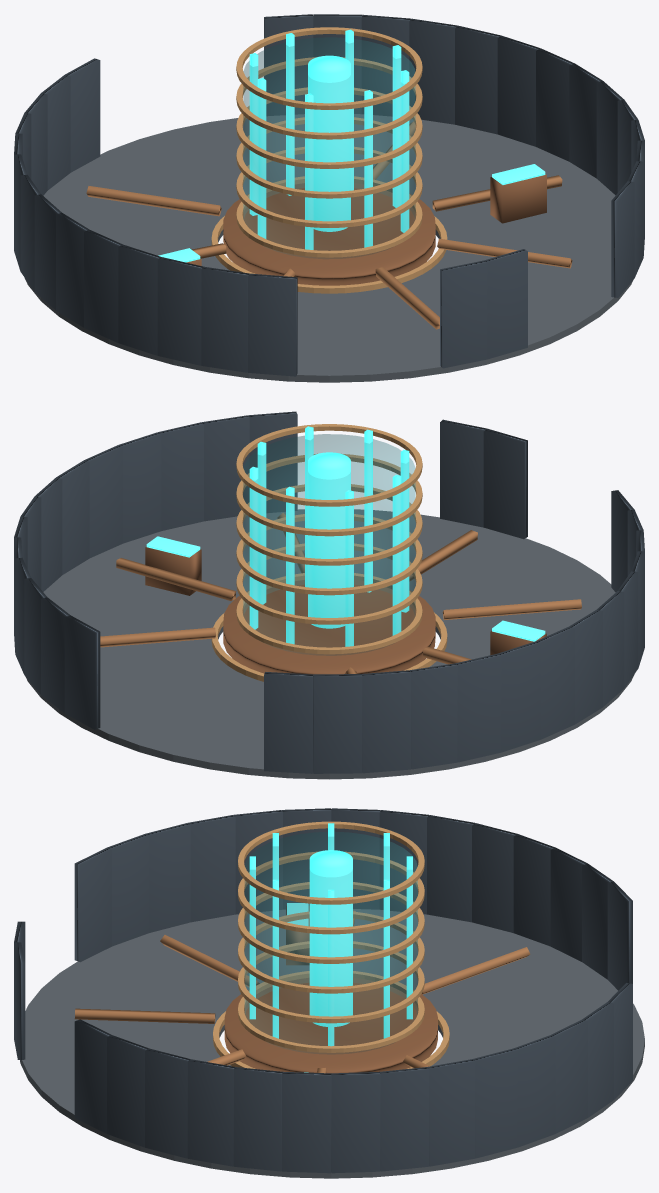
Rendered from Engine_Room_Halcyon_Lower.glb.
3 views of the same model, one above another, from view 1: azimuth 30°, elevation 25°; view 2: azimuth 150°, elevation 25°; view 3: azimuth 270°, elevation 25° (orthographic).
Visible parts, largest first — view 1: Circular_bulkhead (×27), Circular_walkway, Reactor_shell, Induction_ring (×6), Reactor_plinth, Induction_rod (×8), Power_column, Power_conduit (×4), Console_body, Core_rim, ControlScreen; view 2: Circular_bulkhead (×27), Circular_walkway, Reactor_shell, Induction_ring (×6), Reactor_plinth, Induction_rod (×8), Power_column, Power_conduit (×4), Console_body (×2), ControlScreen (×2), Core_rim; view 3: Circular_bulkhead (×29), Circular_walkway, Reactor_shell, Induction_ring (×6), Reactor_plinth, Power_column, Induction_rod (×5), Power_conduit (×3), Core_rim, Console_body.
Part boxes in pixels (x1,y1,x2,y2): Circular_bulkhead (×27): (14,14,643,376); Circular_walkway: (24,114,632,382); Reactor_shell: (243,37,415,258); Induction_ring (×6): (236,27,422,257); Reactor_plinth: (223,183,435,285); Induction_rod (×8): (249,29,409,249); Power_column: (308,55,350,231); Power_conduit (×4): (86,175,572,329); Console_body: (490,174,546,223); Core_rim: (211,216,447,293); ControlScreen: (492,164,545,184); Circular_bulkhead (×27): (15,411,644,773); Circular_walkway: (26,509,634,779); Reactor_shell: (243,434,415,655); Induction_ring (×6): (236,424,422,654); Reactor_plinth: (223,580,435,674); Induction_rod (×8): (249,426,409,646); Power_column: (308,452,350,628); Power_conduit (×4): (100,530,581,647); Console_body (×2): (145,546,546,655); ControlScreen (×2): (146,536,545,641); Core_rim: (211,612,447,681); Circular_bulkhead (×29): (14,808,632,1173); Circular_walkway: (20,909,644,1178); Reactor_shell: (245,832,417,1053); Induction_ring (×6): (238,821,424,1052); Reactor_plinth: (224,977,437,1073); Power_column: (309,850,352,1026); Induction_rod (×5): (249,856,412,1046); Power_conduit (×3): (74,935,530,1023); Core_rim: (213,1011,449,1068); Console_body: (286,905,309,965).
Size of the model in its own units: 19.02 by 6.23 by 18.91.
